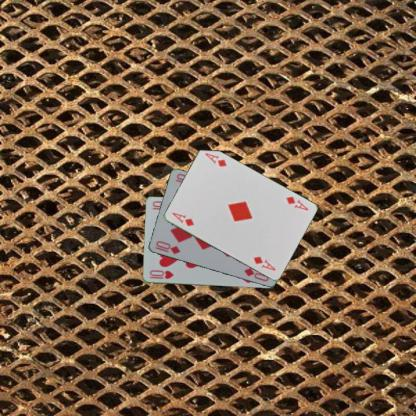10d: (152, 238, 182, 256)
10h: (147, 268, 174, 280)
Ad: (169, 209, 195, 228), (283, 194, 309, 212)
